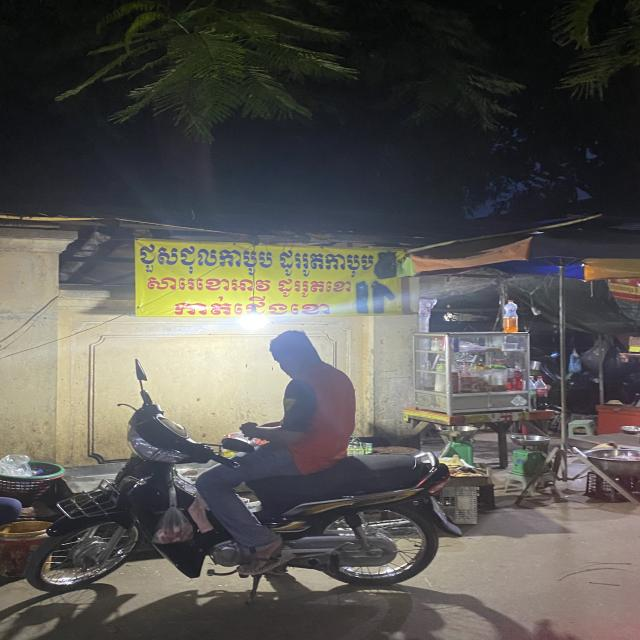1: (136, 240, 381, 280), (146, 274, 354, 298)
Yolov11kh: (171, 295, 333, 317)
